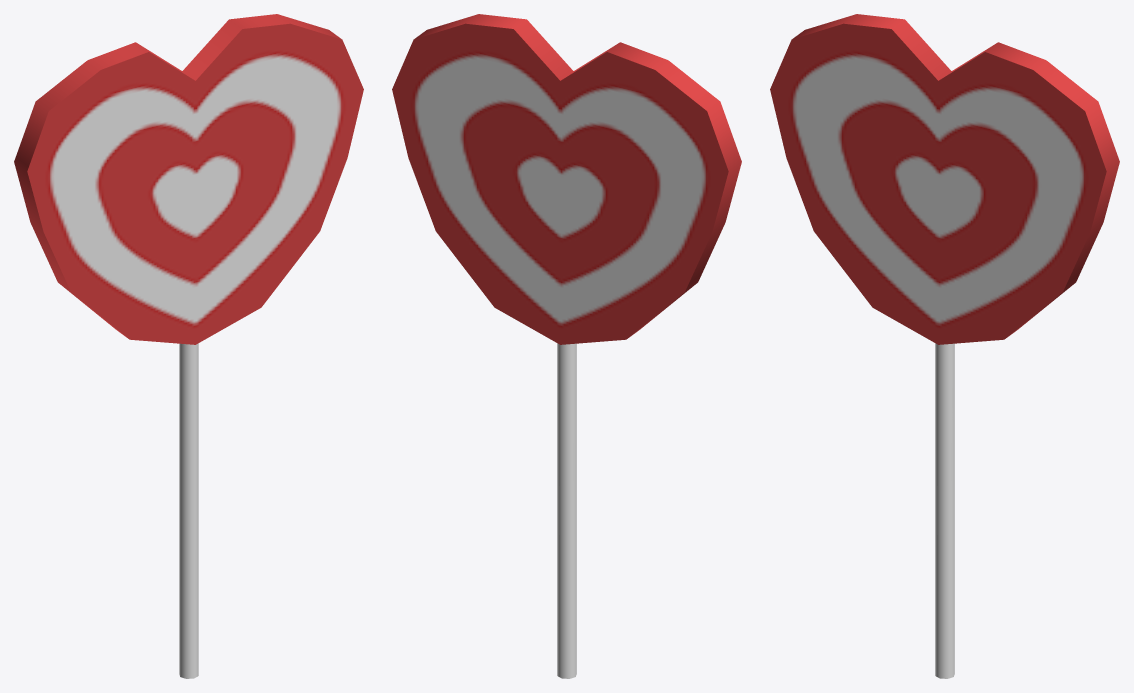
File: HeartLollipop.fbx
The picture shows the model from 3 angles, left to right: view 1: azimuth 30°, elevation 25°; view 2: azimuth 150°, elevation 25°; view 3: azimuth 330°, elevation 25°; orthographic projection.
Parts seen in each view (by area): view 1: HeartLollipop; view 2: HeartLollipop; view 3: HeartLollipop.
Boxes of the visible parts, left/top/right/bottom form: HeartLollipop: left=14, top=14, right=363, bottom=678; HeartLollipop: left=392, top=14, right=741, bottom=678; HeartLollipop: left=770, top=14, right=1119, bottom=678.
Size of the model in its own units: 92.64 by 168 by 6.32.
